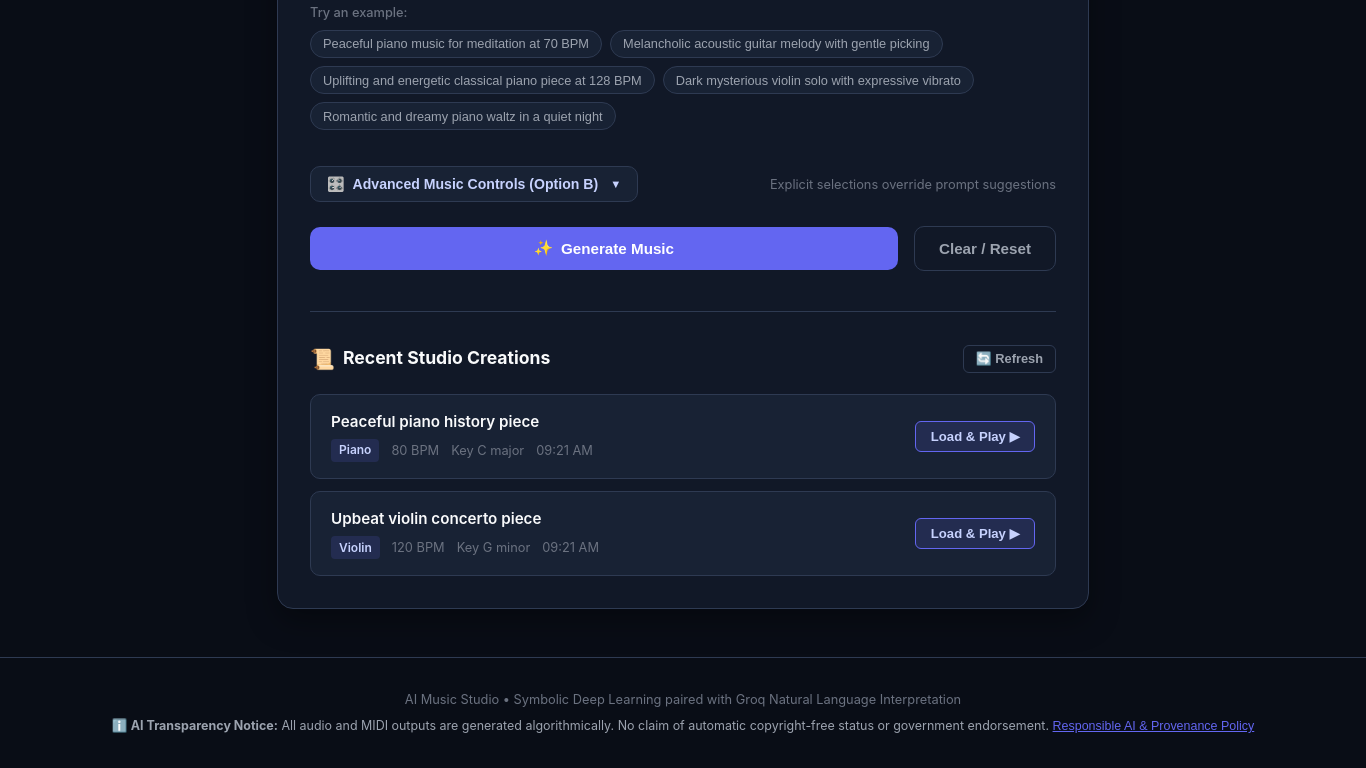
Test: Frontend AI Music Studio Component Tests › switches smoothly between multiple generated songs in history
(page scrolled)
expect the text "Peaceful piano history piece" is shown: met, box top-left (331, 411), bottom-right (539, 433)
expect the text "Upbeat violin concerto piece" is shown: met, box top-left (331, 508), bottom-right (542, 531)
Click to load Song 1 (Piano piece)
Click the button "Load & Play ▶" in the row of "Peaceful piano history piece" at (975, 436), box top-left (916, 420), bottom-right (1035, 452)
(page scrolled)
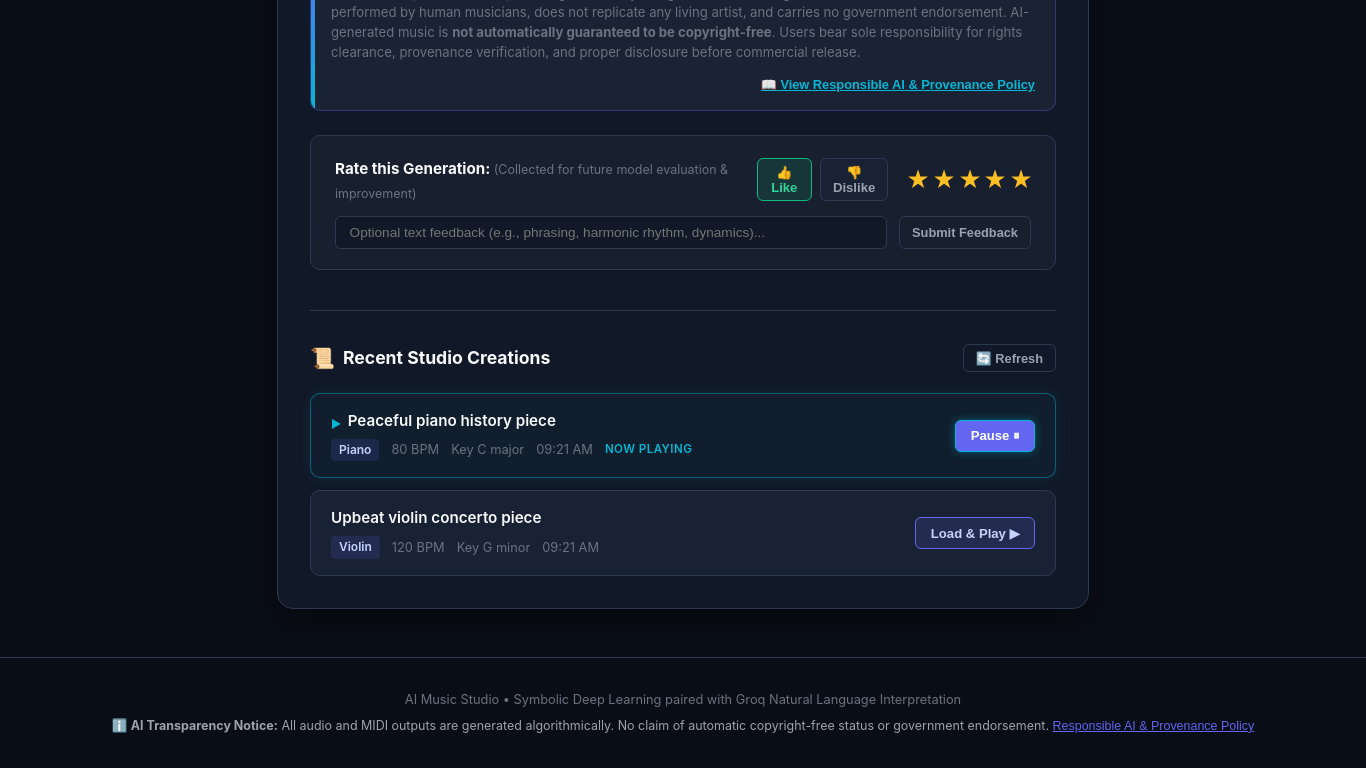
expect the button "Pause ⏸" is shown: met, box top-left (955, 420), bottom-right (1035, 452)
Click Song 2 (Violin piece) to switch tracks
Click the button "Load & Play ▶" at (975, 533), box top-left (916, 517), bottom-right (1035, 549)
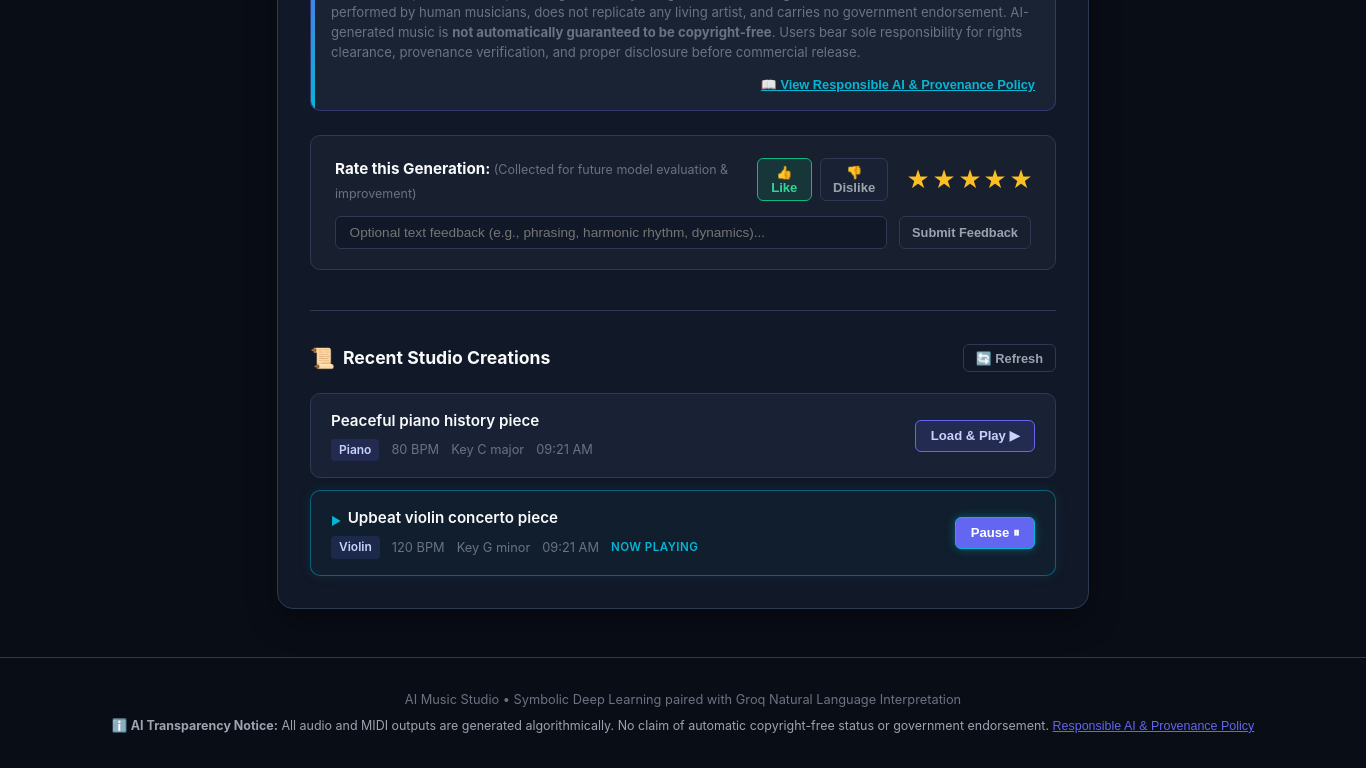
expect the button "Pause ⏸" is shown: met, box top-left (955, 517), bottom-right (1035, 549)
expect the button "Load & Play ▶" is shown: met, box top-left (916, 420), bottom-right (1035, 452)
